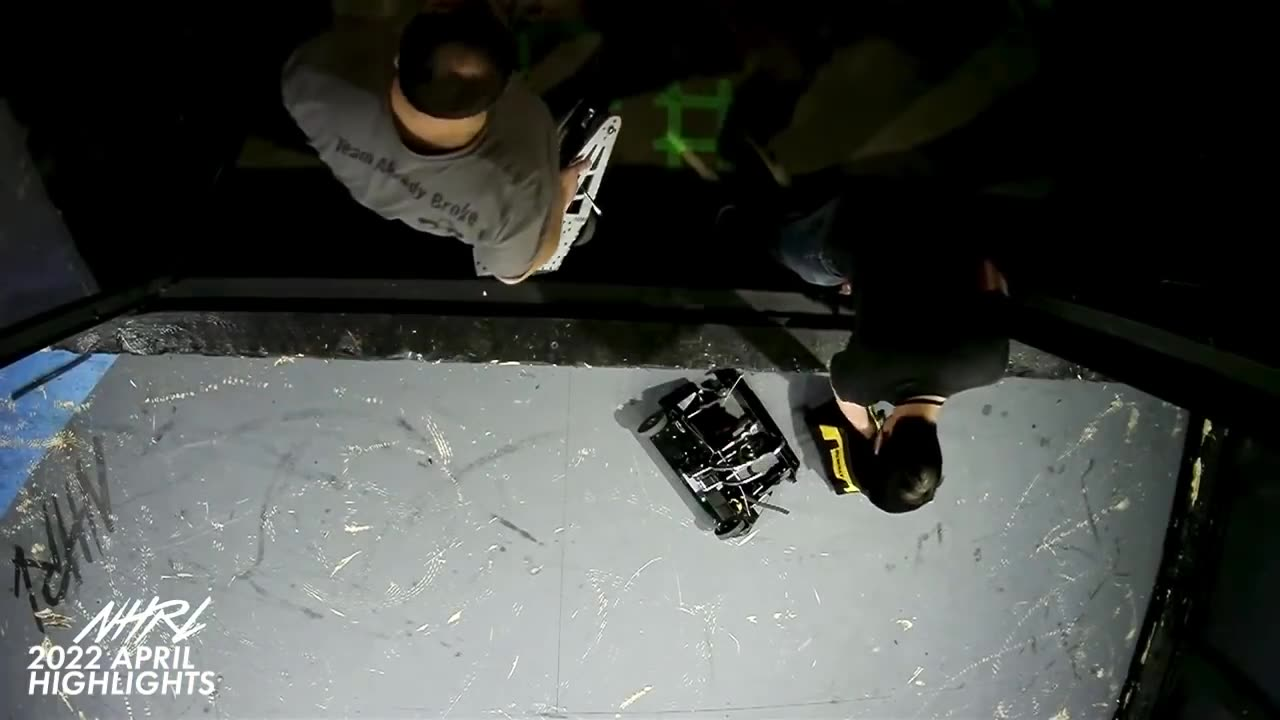combatbot: (635, 365, 802, 542)
